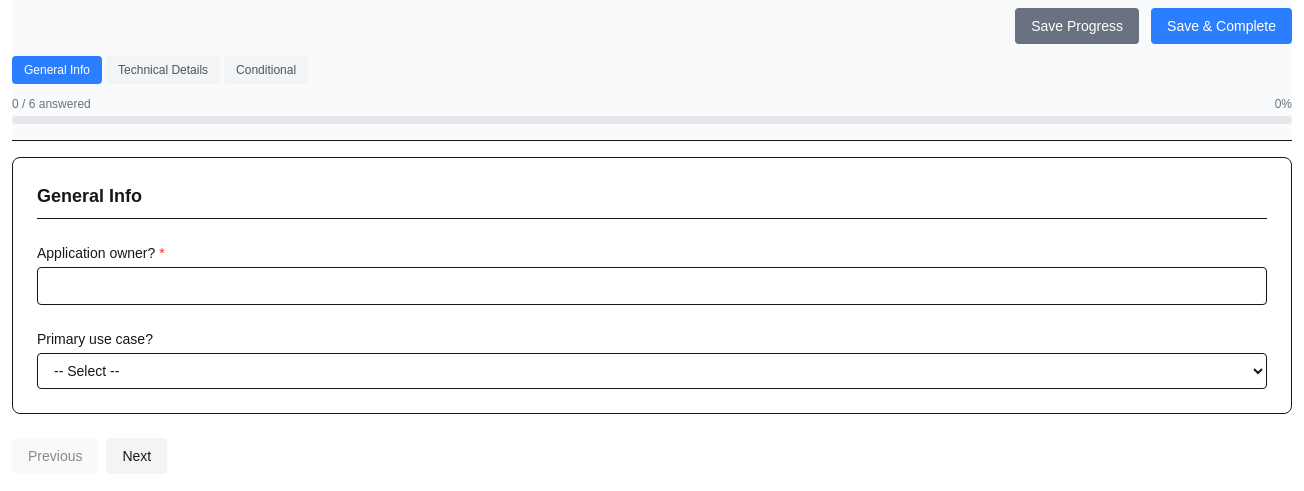
Test: AppQuestionsForm › hides conditional questions when condition not met
The width and height of the screenshot is (1304, 491).
Click the button "Conditional": (266, 70) [224,56,308,84]
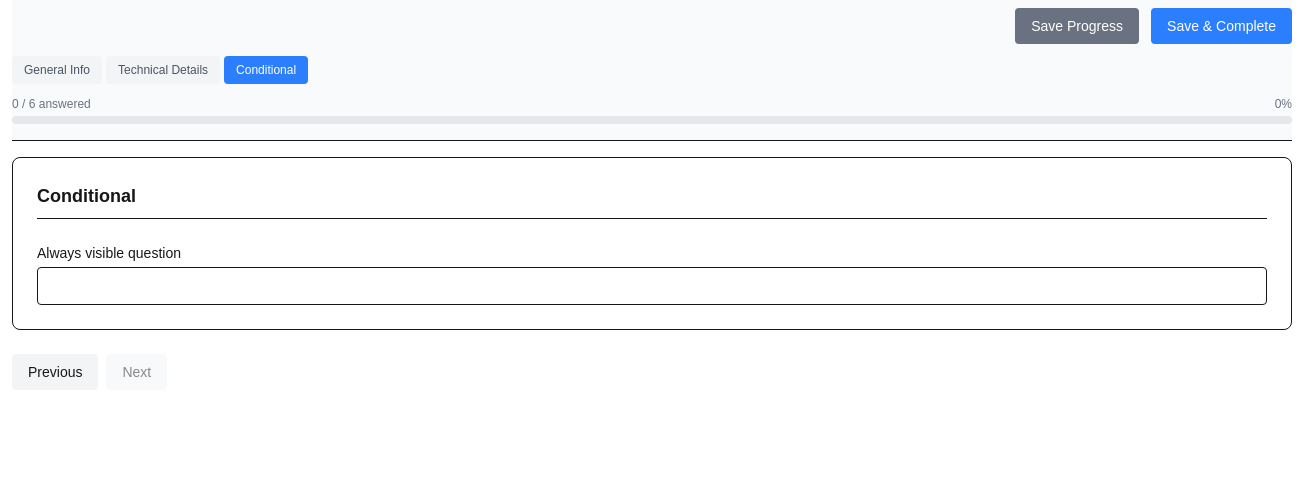
Expected: the text "Always visible question" is shown, [37,245,181,261]
